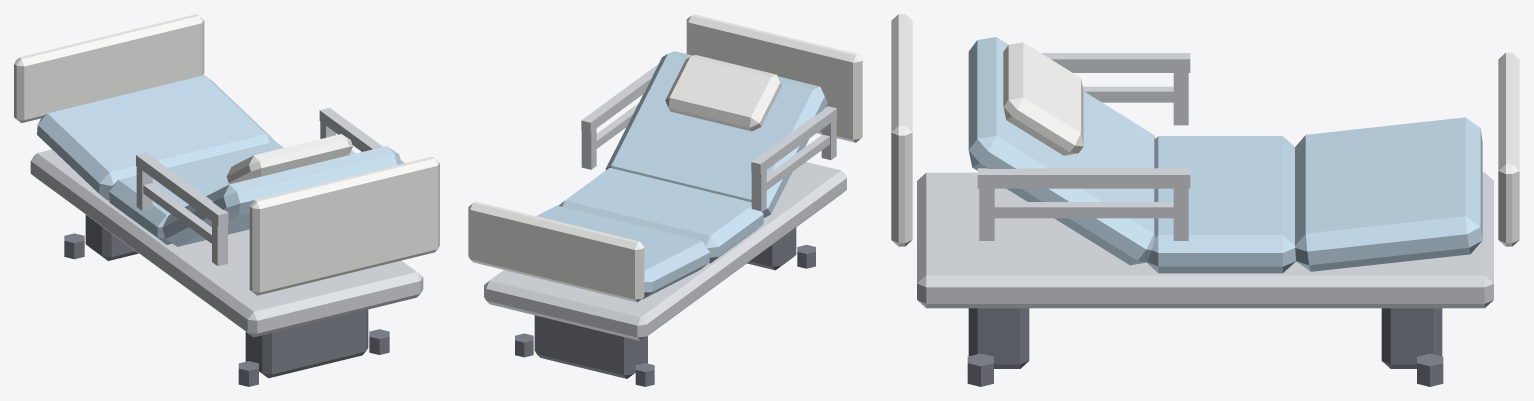
The model's file is bed-head-raised.glb.
The picture shows the model from 3 angles, left to right: view 1: azimuth 30°, elevation 25°; view 2: azimuth 150°, elevation 25°; view 3: azimuth 270°, elevation 25°; orthographic projection. The views are drawn at different scales.
Visible parts, largest first — view 1: ward-bed-head-raised, foot-section, head-section, head-section-shell; view 2: ward-bed-head-raised, head-section, head-section-shell, foot-section; view 3: ward-bed-head-raised, foot-section, head-section, head-section-shell.
Boxes of the visible parts, bbox=[...] form: ward-bed-head-raised: bbox=[14, 14, 439, 386]; foot-section: bbox=[37, 75, 274, 200]; head-section: bbox=[162, 146, 401, 246]; head-section-shell: bbox=[226, 134, 352, 183]; ward-bed-head-raised: bbox=[468, 14, 862, 386]; head-section: bbox=[605, 51, 827, 217]; head-section-shell: bbox=[665, 55, 781, 131]; foot-section: bbox=[536, 205, 709, 299]; ward-bed-head-raised: bbox=[891, 14, 1519, 386]; foot-section: bbox=[1295, 117, 1482, 271]; head-section: bbox=[968, 37, 1154, 265]; head-section-shell: bbox=[1003, 42, 1083, 155].
Size of the model in its own units: 0.9501 by 0.9802 by 2.07.
